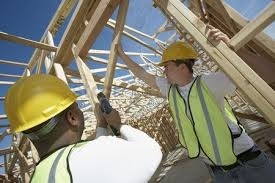helmet: (3, 72, 85, 136), (156, 40, 200, 67)
person with full safety: (4, 76, 163, 183), (155, 42, 253, 157)
safety vest: (167, 83, 236, 156), (27, 154, 95, 182)
